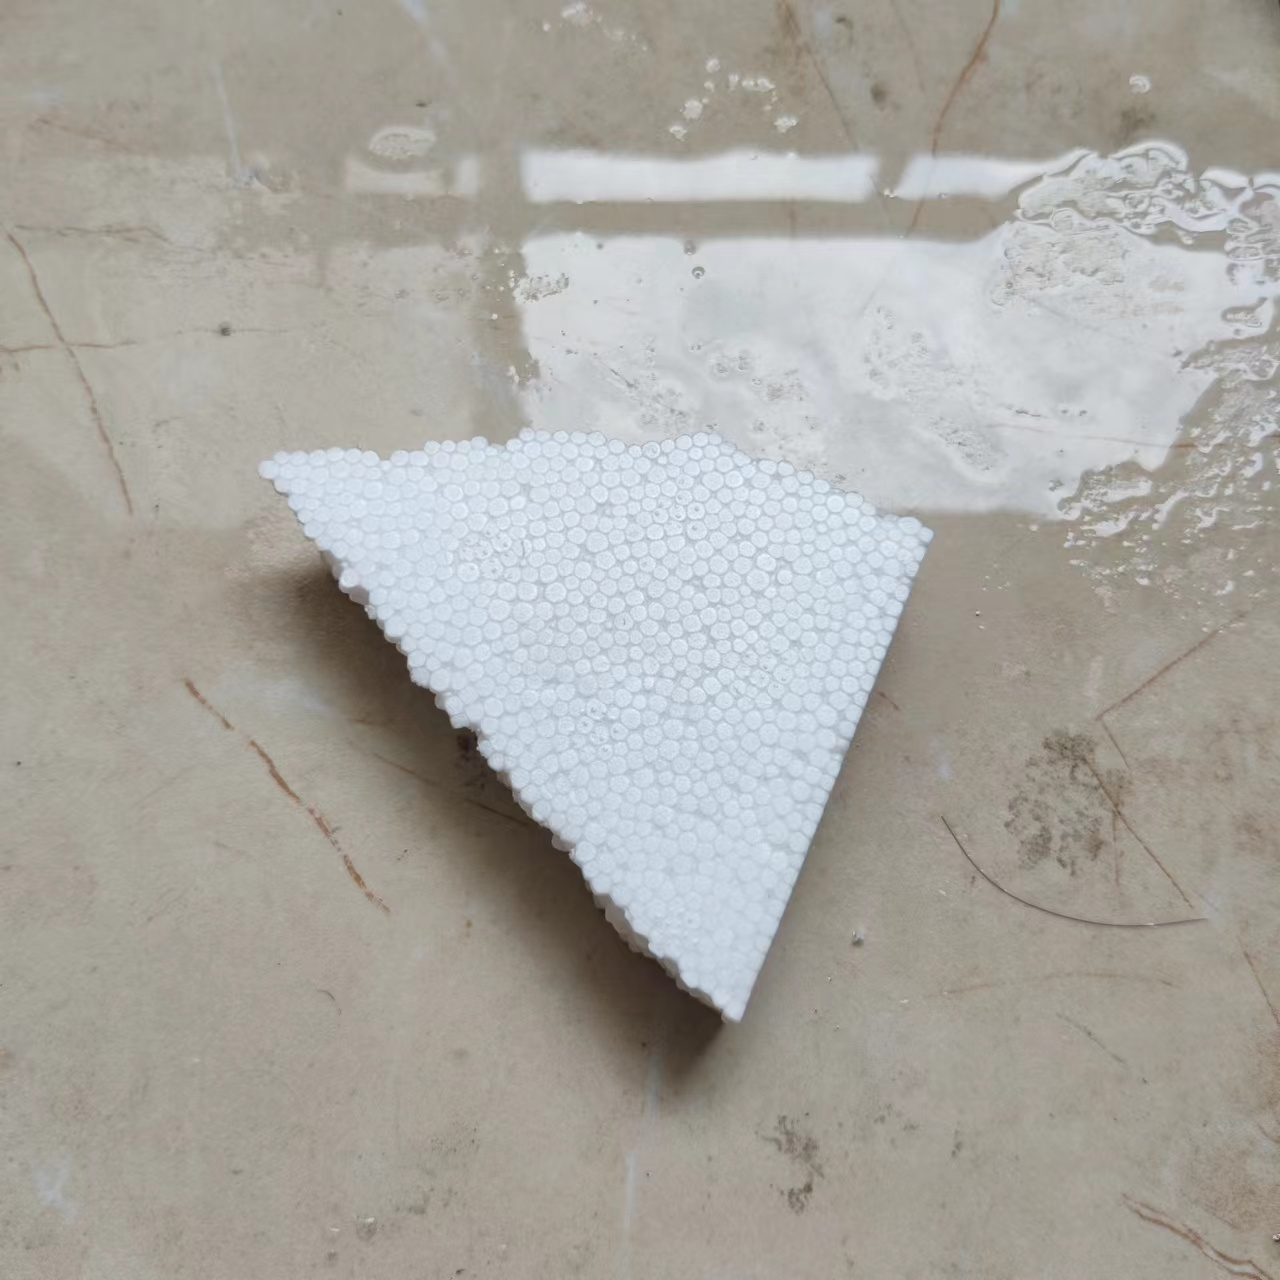5/可回收垃圾/泡沫: (259, 425, 933, 1026)
